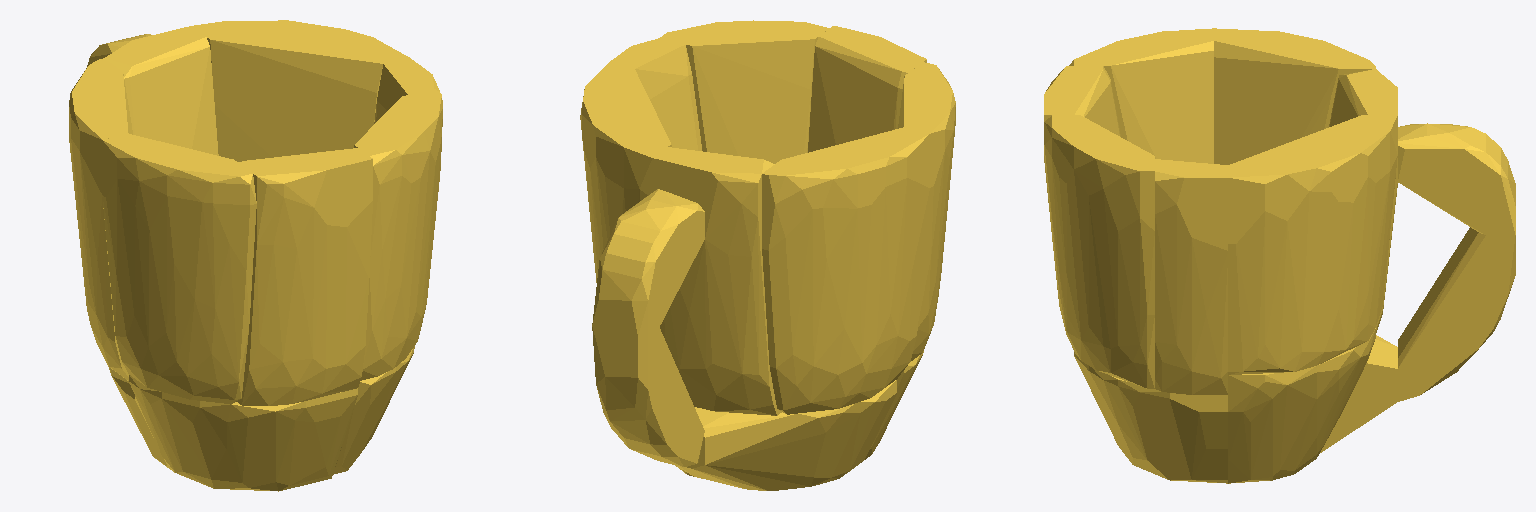
robot.urdf — root:
<robot name="root">
  <link name="link_convex_piece_0">
    <inertial>
      <origin xyz="0 0 0" rpy="0 0 0"/>
      <mass value="1.33E-02"/>
      <inertia ixx="9.01E-06" ixy="4.99E-06" ixz="-7.54E-06" iyy="2.37E-05" iyz="2.19E-06" izz="1.85E-05"/>
    </inertial>
    <visual>
      <origin xyz="0 0 0" rpy="0 0 0"/>
      <geometry>
        <mesh filename="3/convex_piece_0.obj" scale="1.0000E+00 1.0000E+00 1.0000E+00"/>
      </geometry>
      <material name="">
        <color rgba="9.80E-01 8.40E-01 3.50E-01 1"/>
      </material>
    </visual>
    <collision>
      <origin xyz="0 0 0" rpy="0 0 0"/>
      <geometry>
        <mesh filename="3/convex_piece_0.obj" scale="1.0000E+00 1.0000E+00 1.0000E+00"/>
      </geometry>
    </collision>
  </link>
  <link name="link_convex_piece_1">
    <inertial>
      <origin xyz="0 0 0" rpy="0 0 0"/>
      <mass value="2.62E-02"/>
      <inertia ixx="4.31E-05" ixy="1.69E-05" ixz="-1.05E-05" iyy="3.01E-05" iyz="1.50E-05" izz="4.09E-05"/>
    </inertial>
    <visual>
      <origin xyz="0 0 0" rpy="0 0 0"/>
      <geometry>
        <mesh filename="3/convex_piece_1.obj" scale="1.0000E+00 1.0000E+00 1.0000E+00"/>
      </geometry>
      <material name="">
        <color rgba="9.80E-01 8.40E-01 3.50E-01 1"/>
      </material>
    </visual>
    <collision>
      <origin xyz="0 0 0" rpy="0 0 0"/>
      <geometry>
        <mesh filename="3/convex_piece_1.obj" scale="1.0000E+00 1.0000E+00 1.0000E+00"/>
      </geometry>
    </collision>
  </link>
  <joint name="link_convex_piece_1_joint" type="fixed">
    <origin xyz="0 0 0" rpy="0 0 0"/>
    <parent link="link_convex_piece_0"/>
    <child link="link_convex_piece_1"/>
  </joint>
  <link name="link_convex_piece_2">
    <inertial>
      <origin xyz="0 0 0" rpy="0 0 0"/>
      <mass value="2.64E-02"/>
      <inertia ixx="3.76E-05" ixy="5.24E-06" ixz="2.22E-06" iyy="1.60E-05" iyz="-1.08E-05" izz="2.72E-05"/>
    </inertial>
    <visual>
      <origin xyz="0 0 0" rpy="0 0 0"/>
      <geometry>
        <mesh filename="3/convex_piece_2.obj" scale="1.0000E+00 1.0000E+00 1.0000E+00"/>
      </geometry>
      <material name="">
        <color rgba="9.80E-01 8.40E-01 3.50E-01 1"/>
      </material>
    </visual>
    <collision>
      <origin xyz="0 0 0" rpy="0 0 0"/>
      <geometry>
        <mesh filename="3/convex_piece_2.obj" scale="1.0000E+00 1.0000E+00 1.0000E+00"/>
      </geometry>
    </collision>
  </link>
  <joint name="link_convex_piece_2_joint" type="fixed">
    <origin xyz="0 0 0" rpy="0 0 0"/>
    <parent link="link_convex_piece_1"/>
    <child link="link_convex_piece_2"/>
  </joint>
  <link name="link_convex_piece_3">
    <inertial>
      <origin xyz="0 0 0" rpy="0 0 0"/>
      <mass value="3.38E-02"/>
      <inertia ixx="2.81E-05" ixy="1.18E-05" ixz="1.65E-05" iyy="5.26E-05" iyz="-7.30E-06" izz="4.13E-05"/>
    </inertial>
    <visual>
      <origin xyz="0 0 0" rpy="0 0 0"/>
      <geometry>
        <mesh filename="3/convex_piece_3.obj" scale="1.0000E+00 1.0000E+00 1.0000E+00"/>
      </geometry>
      <material name="">
        <color rgba="9.80E-01 8.40E-01 3.50E-01 1"/>
      </material>
    </visual>
    <collision>
      <origin xyz="0 0 0" rpy="0 0 0"/>
      <geometry>
        <mesh filename="3/convex_piece_3.obj" scale="1.0000E+00 1.0000E+00 1.0000E+00"/>
      </geometry>
    </collision>
  </link>
  <joint name="link_convex_piece_3_joint" type="fixed">
    <origin xyz="0 0 0" rpy="0 0 0"/>
    <parent link="link_convex_piece_2"/>
    <child link="link_convex_piece_3"/>
  </joint>
  <link name="link_convex_piece_4">
    <inertial>
      <origin xyz="0 0 0" rpy="0 0 0"/>
      <mass value="2.63E-02"/>
      <inertia ixx="4.93E-05" ixy="-7.34E-06" ixz="3.00E-06" iyy="1.73E-05" iyz="1.47E-05" izz="3.89E-05"/>
    </inertial>
    <visual>
      <origin xyz="0 0 0" rpy="0 0 0"/>
      <geometry>
        <mesh filename="3/convex_piece_4.obj" scale="1.0000E+00 1.0000E+00 1.0000E+00"/>
      </geometry>
      <material name="">
        <color rgba="9.80E-01 8.40E-01 3.50E-01 1"/>
      </material>
    </visual>
    <collision>
      <origin xyz="0 0 0" rpy="0 0 0"/>
      <geometry>
        <mesh filename="3/convex_piece_4.obj" scale="1.0000E+00 1.0000E+00 1.0000E+00"/>
      </geometry>
    </collision>
  </link>
  <joint name="link_convex_piece_4_joint" type="fixed">
    <origin xyz="0 0 0" rpy="0 0 0"/>
    <parent link="link_convex_piece_3"/>
    <child link="link_convex_piece_4"/>
  </joint>
  <link name="link_convex_piece_5">
    <inertial>
      <origin xyz="0 0 0" rpy="0 0 0"/>
      <mass value="2.55E-02"/>
      <inertia ixx="2.79E-05" ixy="-1.55E-05" ixz="1.41E-05" iyy="4.14E-05" iyz="9.36E-06" izz="3.81E-05"/>
    </inertial>
    <visual>
      <origin xyz="0 0 0" rpy="0 0 0"/>
      <geometry>
        <mesh filename="3/convex_piece_5.obj" scale="1.0000E+00 1.0000E+00 1.0000E+00"/>
      </geometry>
      <material name="">
        <color rgba="9.80E-01 8.40E-01 3.50E-01 1"/>
      </material>
    </visual>
    <collision>
      <origin xyz="0 0 0" rpy="0 0 0"/>
      <geometry>
        <mesh filename="3/convex_piece_5.obj" scale="1.0000E+00 1.0000E+00 1.0000E+00"/>
      </geometry>
    </collision>
  </link>
  <joint name="link_convex_piece_5_joint" type="fixed">
    <origin xyz="0 0 0" rpy="0 0 0"/>
    <parent link="link_convex_piece_4"/>
    <child link="link_convex_piece_5"/>
  </joint>
  <link name="link_convex_piece_6">
    <inertial>
      <origin xyz="0 0 0" rpy="0 0 0"/>
      <mass value="3.96E-02"/>
      <inertia ixx="4.42E-05" ixy="-1.62E-05" ixz="-2.05E-05" iyy="5.46E-05" iyz="-1.54E-05" izz="4.69E-05"/>
    </inertial>
    <visual>
      <origin xyz="0 0 0" rpy="0 0 0"/>
      <geometry>
        <mesh filename="3/convex_piece_6.obj" scale="1.0000E+00 1.0000E+00 1.0000E+00"/>
      </geometry>
      <material name="">
        <color rgba="9.80E-01 8.40E-01 3.50E-01 1"/>
      </material>
    </visual>
    <collision>
      <origin xyz="0 0 0" rpy="0 0 0"/>
      <geometry>
        <mesh filename="3/convex_piece_6.obj" scale="1.0000E+00 1.0000E+00 1.0000E+00"/>
      </geometry>
    </collision>
  </link>
  <joint name="link_convex_piece_6_joint" type="fixed">
    <origin xyz="0 0 0" rpy="0 0 0"/>
    <parent link="link_convex_piece_5"/>
    <child link="link_convex_piece_6"/>
  </joint>
  <link name="link_convex_piece_7">
    <inertial>
      <origin xyz="0 0 0" rpy="0 0 0"/>
      <mass value="1.96E-02"/>
      <inertia ixx="1.84E-05" ixy="-4.24E-06" ixz="8.82E-06" iyy="2.21E-05" iyz="5.59E-06" izz="1.27E-05"/>
    </inertial>
    <visual>
      <origin xyz="0 0 0" rpy="0 0 0"/>
      <geometry>
        <mesh filename="3/convex_piece_7.obj" scale="1.0000E+00 1.0000E+00 1.0000E+00"/>
      </geometry>
      <material name="">
        <color rgba="9.80E-01 8.40E-01 3.50E-01 1"/>
      </material>
    </visual>
    <collision>
      <origin xyz="0 0 0" rpy="0 0 0"/>
      <geometry>
        <mesh filename="3/convex_piece_7.obj" scale="1.0000E+00 1.0000E+00 1.0000E+00"/>
      </geometry>
    </collision>
  </link>
  <joint name="link_convex_piece_7_joint" type="fixed">
    <origin xyz="0 0 0" rpy="0 0 0"/>
    <parent link="link_convex_piece_6"/>
    <child link="link_convex_piece_7"/>
  </joint>
  <link name="link_convex_piece_8">
    <inertial>
      <origin xyz="0 0 0" rpy="0 0 0"/>
      <mass value="1.79E-02"/>
      <inertia ixx="2.15E-05" ixy="5.01E-06" ixz="9.02E-06" iyy="2.25E-05" iyz="-7.78E-06" izz="1.32E-05"/>
    </inertial>
    <visual>
      <origin xyz="0 0 0" rpy="0 0 0"/>
      <geometry>
        <mesh filename="3/convex_piece_8.obj" scale="1.0000E+00 1.0000E+00 1.0000E+00"/>
      </geometry>
      <material name="">
        <color rgba="9.80E-01 8.40E-01 3.50E-01 1"/>
      </material>
    </visual>
    <collision>
      <origin xyz="0 0 0" rpy="0 0 0"/>
      <geometry>
        <mesh filename="3/convex_piece_8.obj" scale="1.0000E+00 1.0000E+00 1.0000E+00"/>
      </geometry>
    </collision>
  </link>
  <joint name="link_convex_piece_8_joint" type="fixed">
    <origin xyz="0 0 0" rpy="0 0 0"/>
    <parent link="link_convex_piece_7"/>
    <child link="link_convex_piece_8"/>
  </joint>
  <link name="link_convex_piece_9">
    <inertial>
      <origin xyz="0 0 0" rpy="0 0 0"/>
      <mass value="2.90E-02"/>
      <inertia ixx="3.91E-05" ixy="2.54E-06" ixz="-8.45E-06" iyy="3.58E-05" iyz="1.18E-05" izz="1.46E-05"/>
    </inertial>
    <visual>
      <origin xyz="0 0 0" rpy="0 0 0"/>
      <geometry>
        <mesh filename="3/convex_piece_9.obj" scale="1.0000E+00 1.0000E+00 1.0000E+00"/>
      </geometry>
      <material name="">
        <color rgba="9.80E-01 8.40E-01 3.50E-01 1"/>
      </material>
    </visual>
    <collision>
      <origin xyz="0 0 0" rpy="0 0 0"/>
      <geometry>
        <mesh filename="3/convex_piece_9.obj" scale="1.0000E+00 1.0000E+00 1.0000E+00"/>
      </geometry>
    </collision>
  </link>
  <joint name="link_convex_piece_9_joint" type="fixed">
    <origin xyz="0 0 0" rpy="0 0 0"/>
    <parent link="link_convex_piece_8"/>
    <child link="link_convex_piece_9"/>
  </joint>
  <link name="link_convex_piece_10">
    <inertial>
      <origin xyz="0 0 0" rpy="0 0 0"/>
      <mass value="2.52E-02"/>
      <inertia ixx="3.46E-05" ixy="-4.49E-06" ixz="-7.52E-06" iyy="2.93E-05" iyz="-1.38E-05" izz="1.66E-05"/>
    </inertial>
    <visual>
      <origin xyz="0 0 0" rpy="0 0 0"/>
      <geometry>
        <mesh filename="3/convex_piece_10.obj" scale="1.0000E+00 1.0000E+00 1.0000E+00"/>
      </geometry>
      <material name="">
        <color rgba="9.80E-01 8.40E-01 3.50E-01 1"/>
      </material>
    </visual>
    <collision>
      <origin xyz="0 0 0" rpy="0 0 0"/>
      <geometry>
        <mesh filename="3/convex_piece_10.obj" scale="1.0000E+00 1.0000E+00 1.0000E+00"/>
      </geometry>
    </collision>
  </link>
  <joint name="link_convex_piece_10_joint" type="fixed">
    <origin xyz="0 0 0" rpy="0 0 0"/>
    <parent link="link_convex_piece_9"/>
    <child link="link_convex_piece_10"/>
  </joint>
  <link name="link_convex_piece_11">
    <inertial>
      <origin xyz="0 0 0" rpy="0 0 0"/>
      <mass value="7.29E-03"/>
      <inertia ixx="2.88E-05" ixy="6.28E-08" ixz="2.93E-08" iyy="6.17E-06" iyz="-1.11E-05" izz="2.29E-05"/>
    </inertial>
    <visual>
      <origin xyz="0 0 0" rpy="0 0 0"/>
      <geometry>
        <mesh filename="3/convex_piece_11.obj" scale="1.0000E+00 1.0000E+00 1.0000E+00"/>
      </geometry>
      <material name="">
        <color rgba="9.80E-01 8.40E-01 3.50E-01 1"/>
      </material>
    </visual>
    <collision>
      <origin xyz="0 0 0" rpy="0 0 0"/>
      <geometry>
        <mesh filename="3/convex_piece_11.obj" scale="1.0000E+00 1.0000E+00 1.0000E+00"/>
      </geometry>
    </collision>
  </link>
  <joint name="link_convex_piece_11_joint" type="fixed">
    <origin xyz="0 0 0" rpy="0 0 0"/>
    <parent link="link_convex_piece_10"/>
    <child link="link_convex_piece_11"/>
  </joint>
  <link name="link_convex_piece_12">
    <inertial>
      <origin xyz="0 0 0" rpy="0 0 0"/>
      <mass value="9.71E-03"/>
      <inertia ixx="3.25E-05" ixy="8.91E-08" ixz="-1.01E-08" iyy="2.05E-06" iyz="3.65E-06" izz="3.08E-05"/>
    </inertial>
    <visual>
      <origin xyz="0 0 0" rpy="0 0 0"/>
      <geometry>
        <mesh filename="3/convex_piece_12.obj" scale="1.0000E+00 1.0000E+00 1.0000E+00"/>
      </geometry>
      <material name="">
        <color rgba="9.80E-01 8.40E-01 3.50E-01 1"/>
      </material>
    </visual>
    <collision>
      <origin xyz="0 0 0" rpy="0 0 0"/>
      <geometry>
        <mesh filename="3/convex_piece_12.obj" scale="1.0000E+00 1.0000E+00 1.0000E+00"/>
      </geometry>
    </collision>
  </link>
  <joint name="link_convex_piece_12_joint" type="fixed">
    <origin xyz="0 0 0" rpy="0 0 0"/>
    <parent link="link_convex_piece_11"/>
    <child link="link_convex_piece_12"/>
  </joint>
</robot>

--- Render facts (derived) ---
The picture shows the robot from 3 angles, left to right: view 1: azimuth 30°, elevation 25°; view 2: azimuth 150°, elevation 25°; view 3: azimuth 270°, elevation 25°; orthographic projection.
Model root with 13 links and 12 joints (12 fixed), rooted at link_convex_piece_0, posed all joints at 0.
Links seen in each view (by area): view 1: link_convex_piece_5, link_convex_piece_4, link_convex_piece_6, link_convex_piece_1, link_convex_piece_10, link_convex_piece_3, link_convex_piece_2, link_convex_piece_8, link_convex_piece_0, link_convex_piece_9; view 2: link_convex_piece_3, link_convex_piece_2, link_convex_piece_1, link_convex_piece_9, link_convex_piece_11, link_convex_piece_12, link_convex_piece_6, link_convex_piece_4, link_convex_piece_5, link_convex_piece_0, link_convex_piece_10; view 3: link_convex_piece_6, link_convex_piece_1, link_convex_piece_0, link_convex_piece_3, link_convex_piece_5, link_convex_piece_7, link_convex_piece_12, link_convex_piece_8, link_convex_piece_11, link_convex_piece_4, link_convex_piece_9, link_convex_piece_2.
Boxes of the visible links, left/top/right/bottom form: link_convex_piece_5: left=102, top=134, right=256, bottom=403; link_convex_piece_4: left=236, top=148, right=372, bottom=405; link_convex_piece_6: left=192, top=20, right=409, bottom=161; link_convex_piece_1: left=354, top=89, right=442, bottom=380; link_convex_piece_10: left=129, top=375, right=357, bottom=491; link_convex_piece_3: left=69, top=58, right=132, bottom=380; link_convex_piece_2: left=105, top=26, right=218, bottom=155; link_convex_piece_8: left=333, top=346, right=414, bottom=474; link_convex_piece_0: left=374, top=58, right=439, bottom=123; link_convex_piece_9: left=109, top=367, right=173, bottom=471; link_convex_piece_3: left=762, top=127, right=929, bottom=414; link_convex_piece_2: left=653, top=147, right=781, bottom=415; link_convex_piece_1: left=660, top=20, right=829, bottom=163; link_convex_piece_9: left=675, top=380, right=896, bottom=490; link_convex_piece_11: left=592, top=189, right=704, bottom=336; link_convex_piece_12: left=592, top=326, right=704, bottom=466; link_convex_piece_6: left=580, top=63, right=671, bottom=282; link_convex_piece_4: left=808, top=26, right=926, bottom=152; link_convex_piece_5: left=898, top=62, right=955, bottom=360; link_convex_piece_0: left=609, top=38, right=701, bottom=150; link_convex_piece_10: left=861, top=351, right=923, bottom=462; link_convex_piece_6: left=1228, top=115, right=1397, bottom=374; link_convex_piece_1: left=1044, top=115, right=1154, bottom=388; link_convex_piece_0: left=1155, top=159, right=1227, bottom=394; link_convex_piece_3: left=1214, top=28, right=1375, bottom=164; link_convex_piece_5: left=1069, top=28, right=1213, bottom=163; link_convex_piece_7: left=1228, top=328, right=1375, bottom=483; link_convex_piece_12: left=1398, top=227, right=1515, bottom=401; link_convex_piece_8: left=1074, top=352, right=1227, bottom=483; link_convex_piece_11: left=1398, top=123, right=1515, bottom=235; link_convex_piece_4: left=1044, top=66, right=1120, bottom=342; link_convex_piece_9: left=1320, top=335, right=1397, bottom=452; link_convex_piece_2: left=1329, top=69, right=1397, bottom=358.
Bounding box of the posed robot: 0.0871 × 0.1161 × 0.0925 m (x, y, z).
13 mesh visuals loaded from 13 distinct referenced files (13 OBJ).